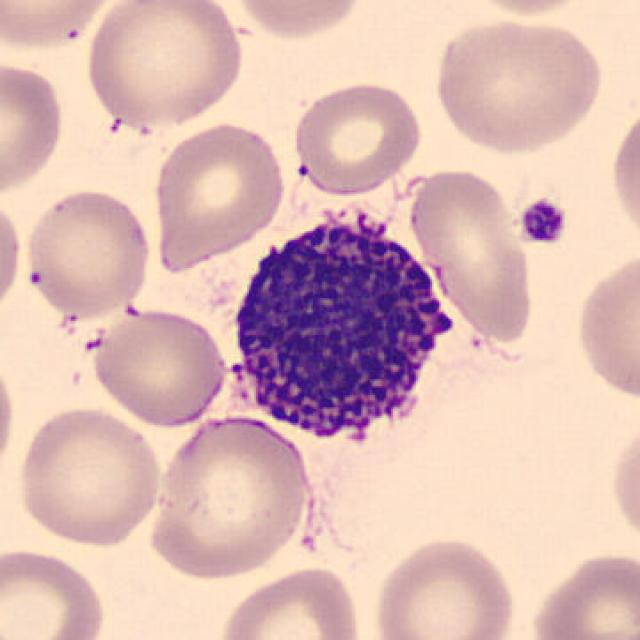Basophil: (217, 194, 473, 462)
Platelets: (515, 196, 569, 248)
RBC: (144, 411, 318, 584), (427, 12, 608, 157), (405, 162, 535, 348), (148, 116, 290, 272), (13, 402, 164, 548), (82, 0, 249, 130), (19, 185, 154, 321), (87, 305, 229, 430), (288, 76, 427, 197), (368, 532, 519, 640), (214, 562, 366, 640), (570, 243, 640, 405), (524, 546, 639, 640), (0, 543, 110, 640), (0, 56, 68, 200), (0, 0, 126, 53), (229, 0, 367, 42), (606, 99, 640, 248), (606, 416, 640, 554), (0, 194, 25, 323), (0, 349, 20, 485), (455, 0, 601, 18)
